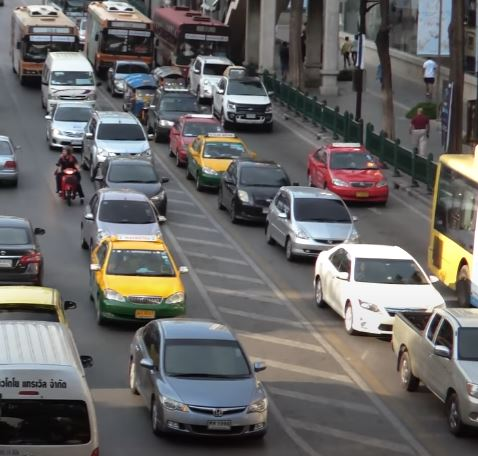Bus: (10, 4, 83, 84), (153, 6, 231, 78), (85, 2, 156, 75), (40, 50, 98, 108)
Car: (128, 316, 270, 442), (312, 241, 448, 336), (392, 306, 478, 437), (88, 233, 190, 327), (264, 181, 360, 262), (305, 140, 389, 205), (218, 158, 296, 226), (78, 189, 164, 243), (95, 157, 169, 213), (187, 131, 256, 190), (82, 111, 154, 166), (211, 76, 274, 130), (147, 84, 201, 139), (168, 112, 224, 165), (187, 55, 240, 102), (45, 102, 91, 150), (106, 59, 152, 97)
Motorcycle: (53, 145, 86, 204)
TukTuk: (122, 74, 157, 125)
